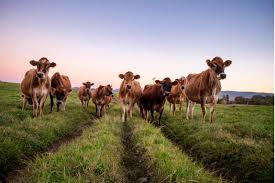cow: (185, 56, 232, 124), (21, 58, 56, 116), (142, 78, 177, 126), (118, 71, 142, 123), (50, 73, 71, 113), (167, 77, 186, 113), (93, 85, 113, 116), (79, 80, 93, 107)
